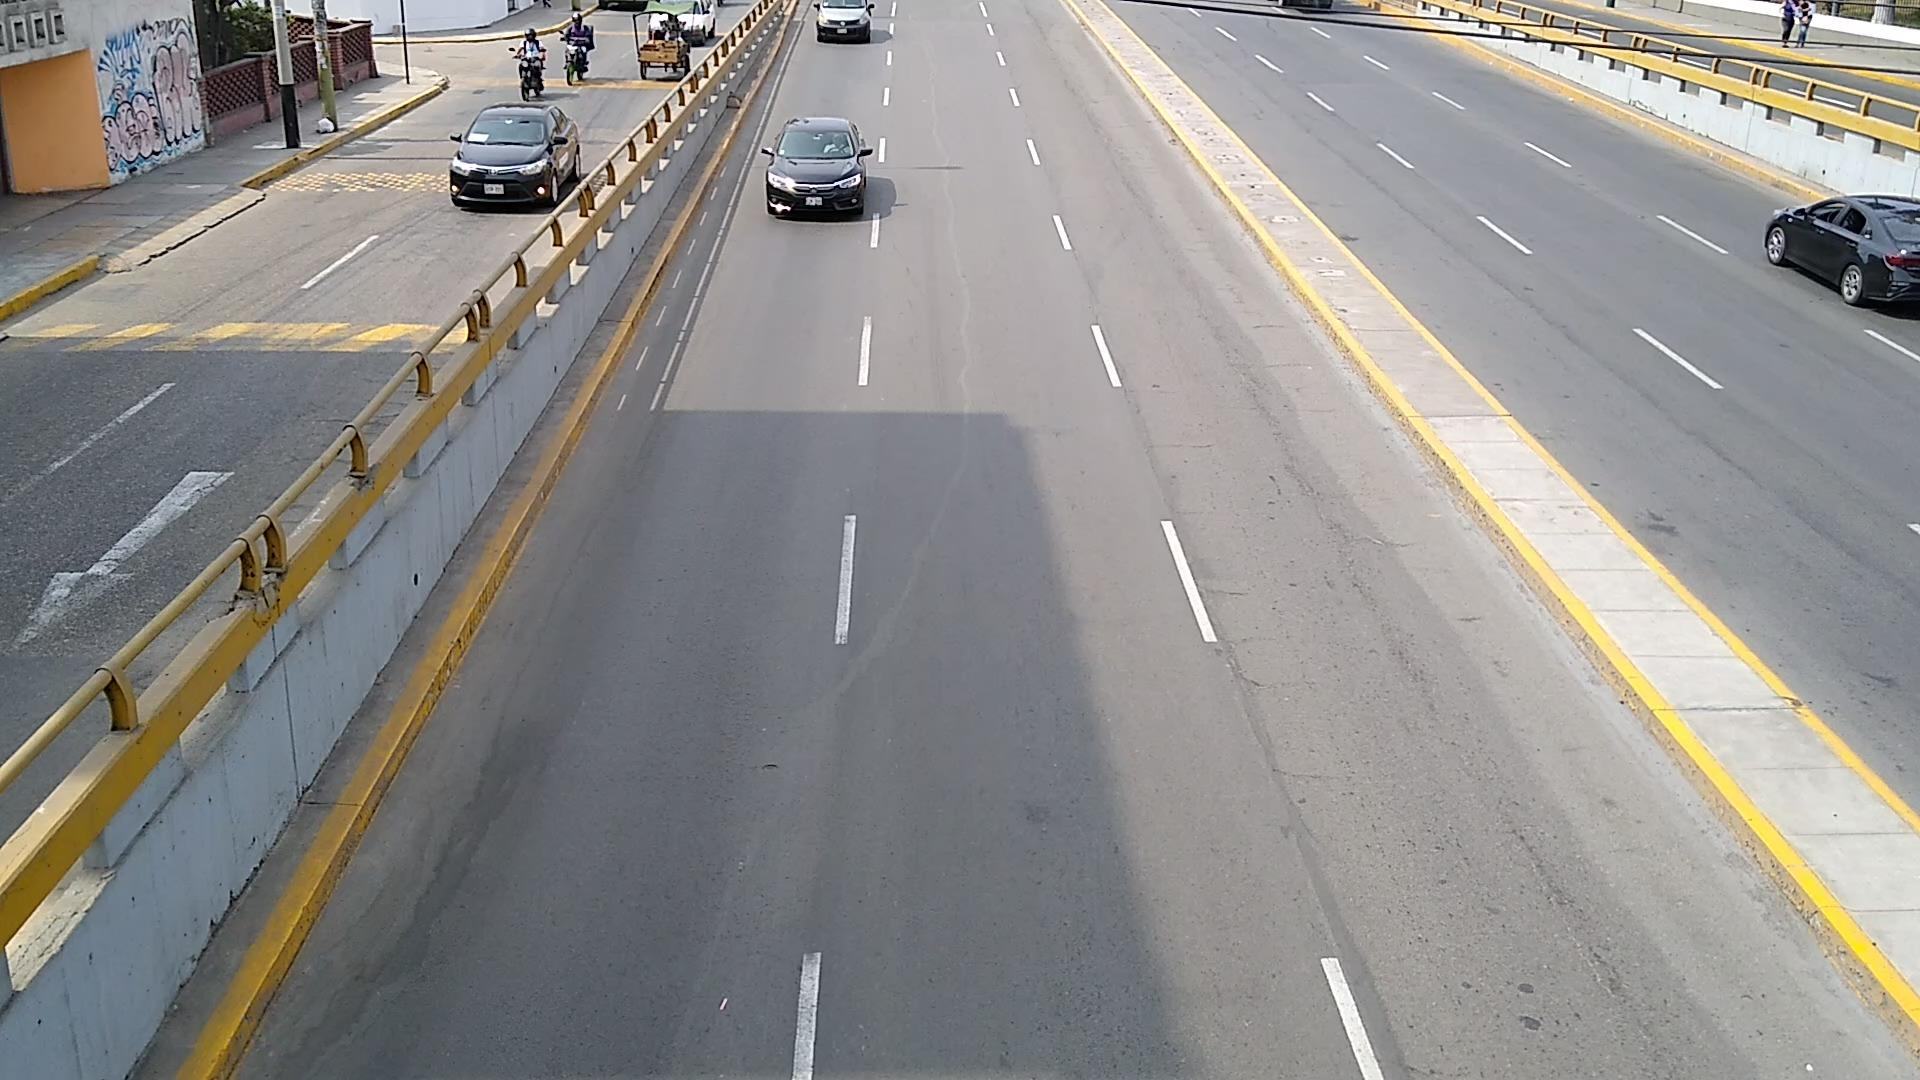car: (1763, 195, 1920, 303), (450, 102, 582, 206), (761, 116, 874, 214)
